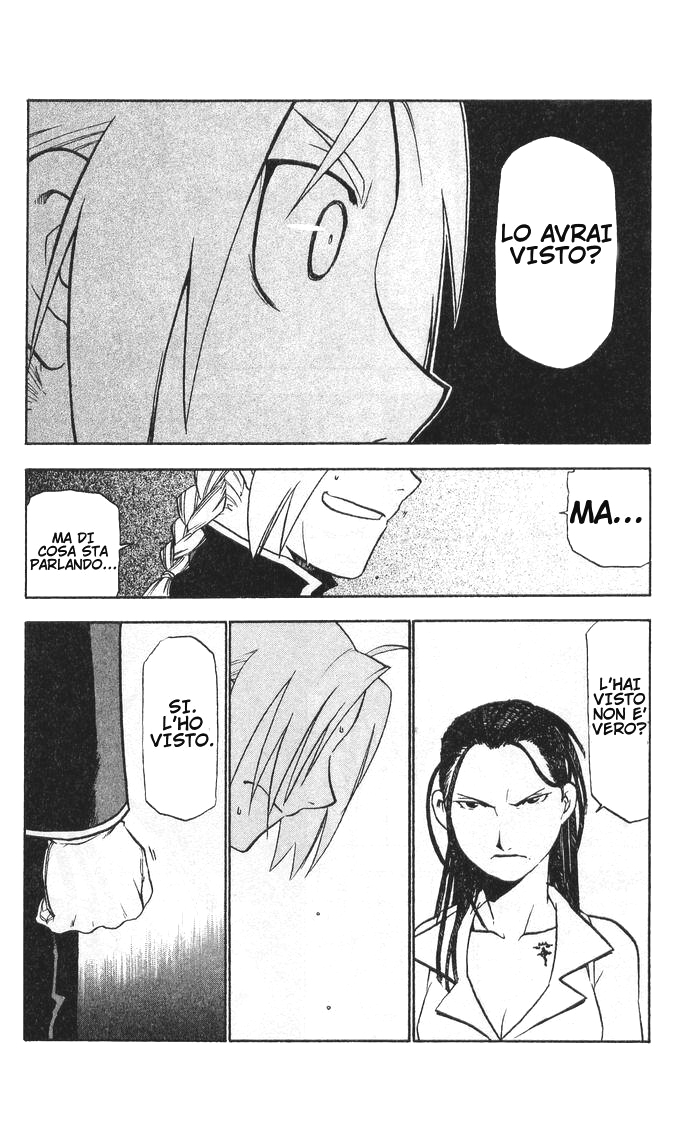Baloon: (493, 140, 614, 378), (141, 633, 219, 820), (588, 614, 655, 826), (29, 487, 121, 595), (567, 468, 648, 576)
Vignetta: (24, 102, 650, 445), (412, 618, 652, 1042), (22, 620, 228, 1042), (28, 466, 652, 595), (231, 621, 407, 1042)
